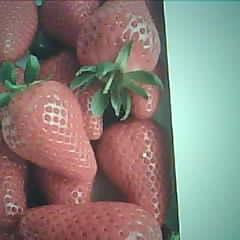straw-ripe: (3, 80, 99, 177), (99, 119, 170, 222), (77, 0, 161, 67)
